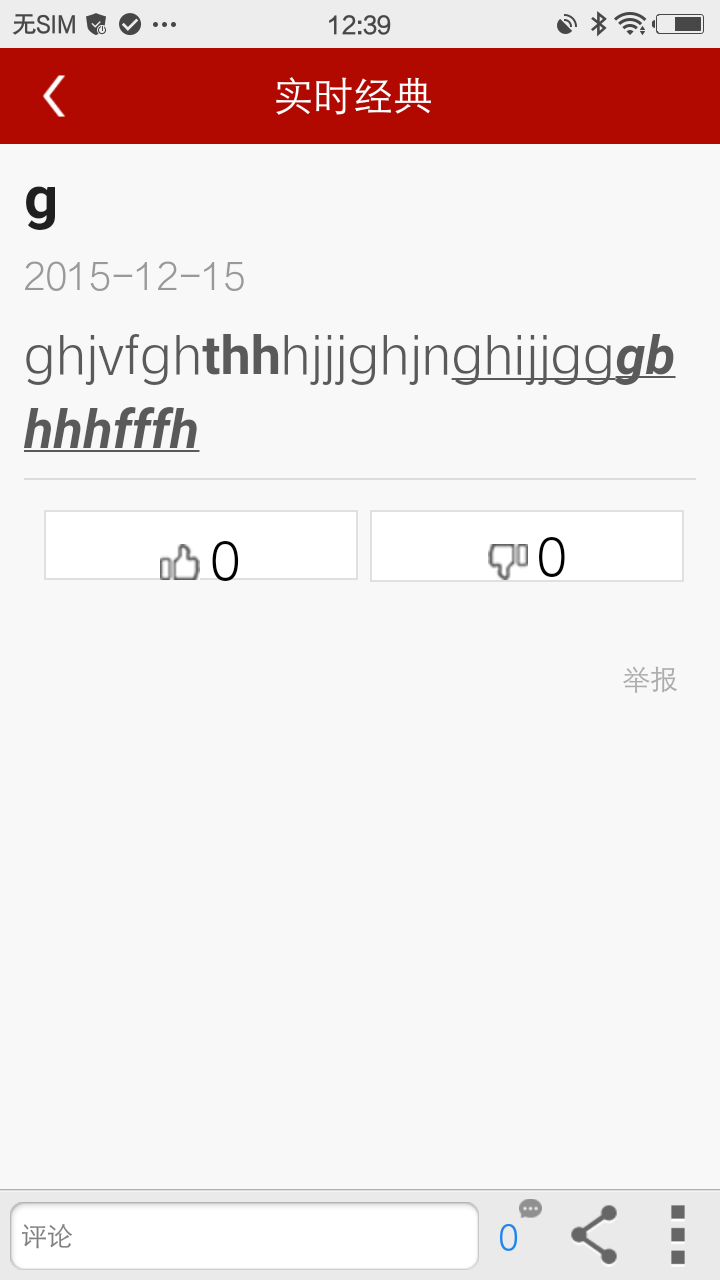textview: (17, 310, 708, 460)
